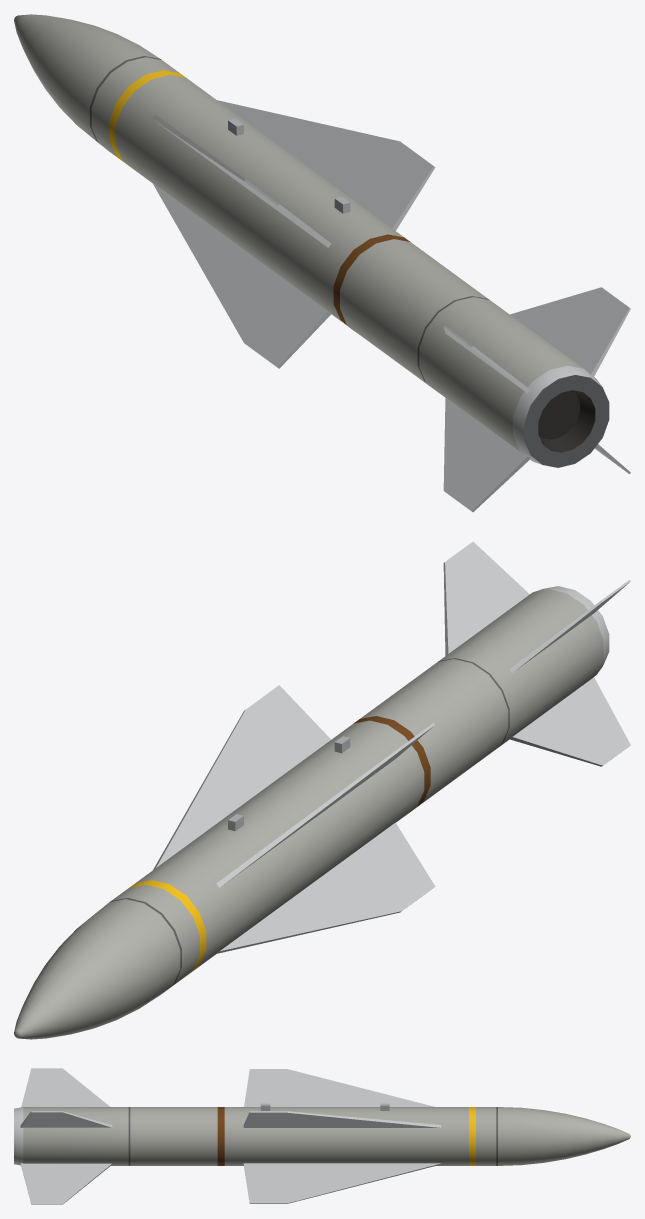
File: aim54.glb
3 views of the same model, one above another, from view 1: azimuth 30°, elevation 25°; view 2: azimuth 150°, elevation 25°; view 3: azimuth 270°, elevation 25° (orthographic). The views are drawn at different scales.
Visible parts, largest first — view 1: aim54; view 2: aim54; view 3: aim54.
Boxes of the visible parts, bbox=[...] form: aim54: bbox=[14, 14, 630, 512]; aim54: bbox=[14, 541, 630, 1039]; aim54: bbox=[14, 1068, 630, 1204].
Bounding box in the file's own units: 0.6562 × 0.6562 × 3.93.
